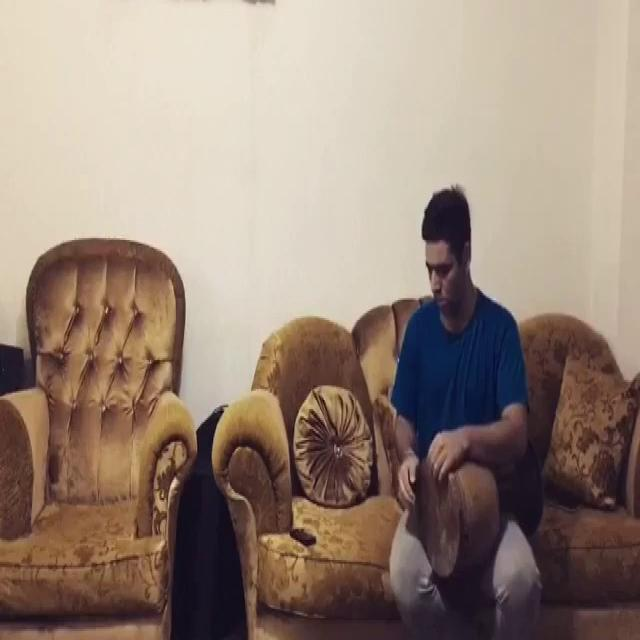Tombak: (417, 447, 548, 578)
